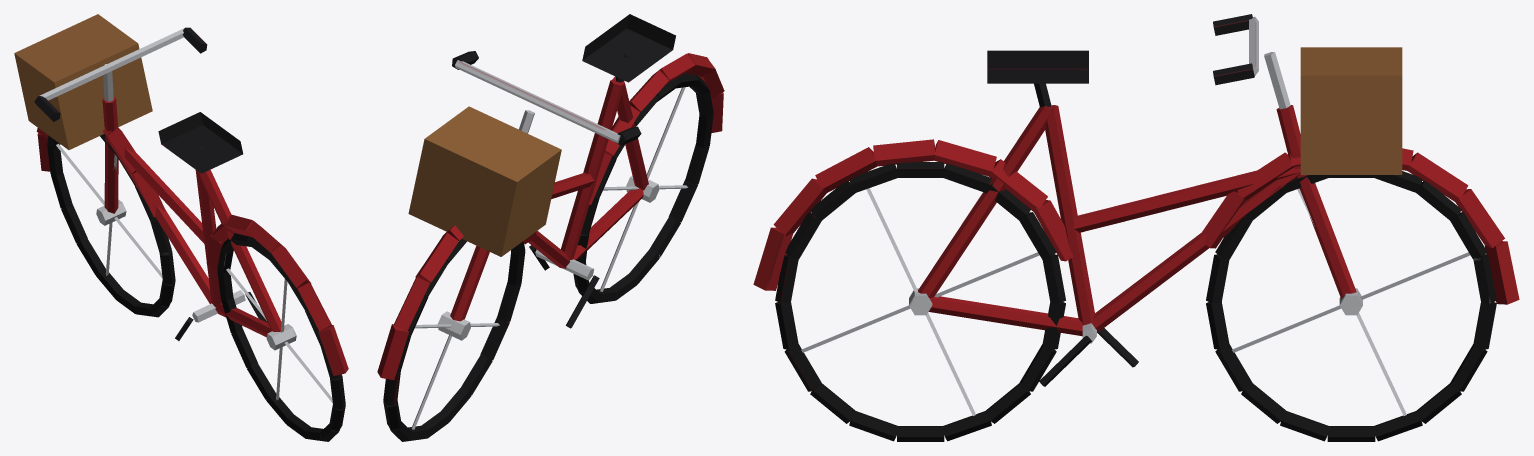
The model's file is kolo_4be4d17e.glb.
3 views of the same model, side by side, from view 1: azimuth 30°, elevation 25°; view 2: azimuth 150°, elevation 25°; view 3: azimuth 270°, elevation 25° (orthographic). The views are drawn at different scales.
Visible parts, largest first — view 1: dum; view 2: dum; view 3: dum.
Boxes of the visible parts, x1,y1,x2,y2 form: dum: (14,14,348,441); dum: (377,14,724,441); dum: (753,14,1519,441).
Size of the model in its own units: 0.5906 by 1.09 by 1.95.
1 material, 1 textured.
